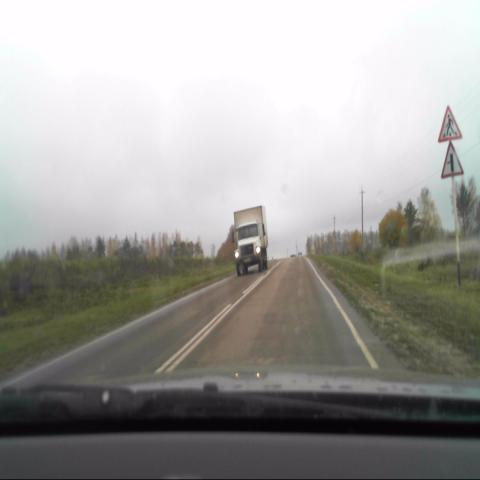1_22: (438, 103, 462, 145)
